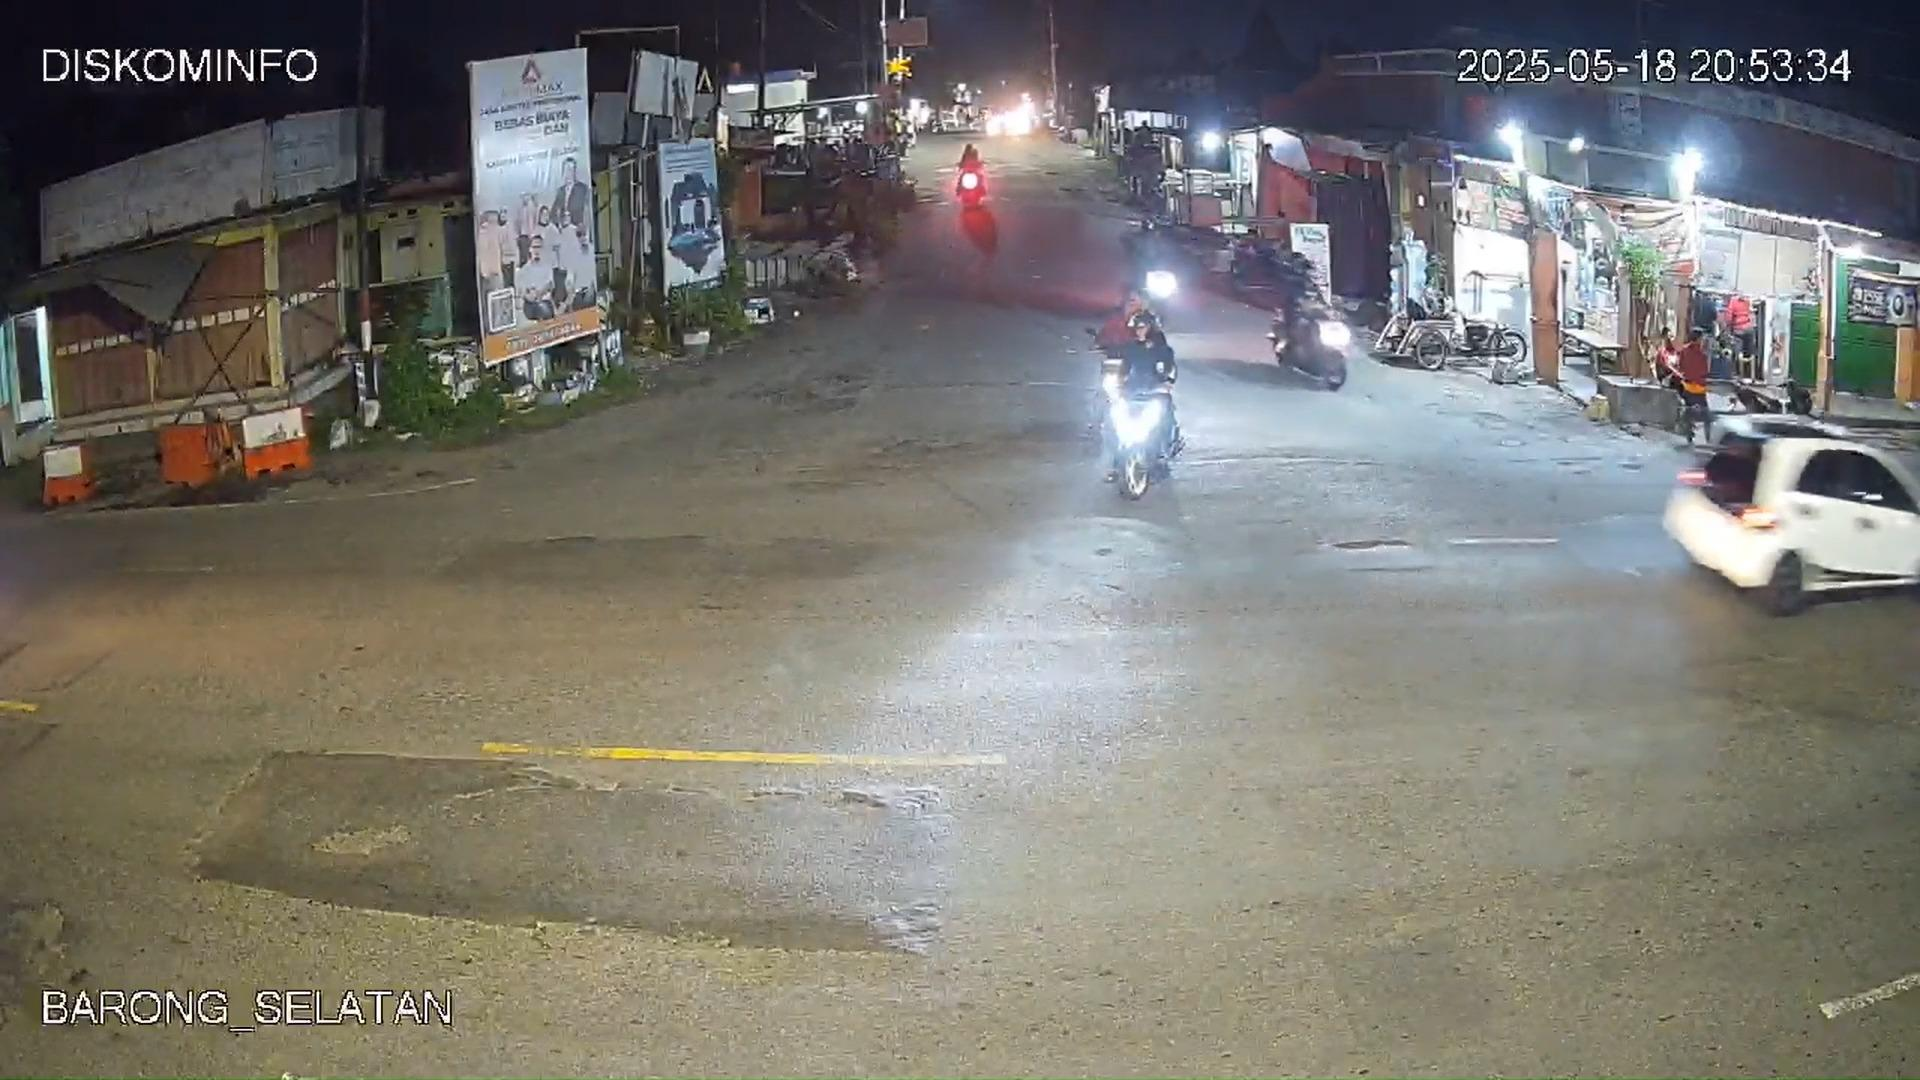Motor: (1230, 245, 1345, 388), (1105, 307, 1182, 481), (952, 146, 994, 262)
mobil: (1660, 422, 1917, 616)
